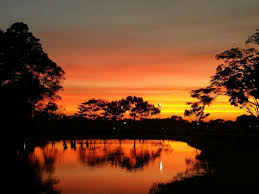lake: (33, 139, 199, 193)
sky: (36, 1, 218, 90)
tree: (180, 35, 259, 132), (1, 22, 63, 134), (80, 94, 158, 133)
